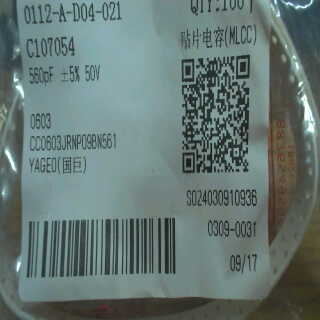560pF: (25, 63, 60, 87)
